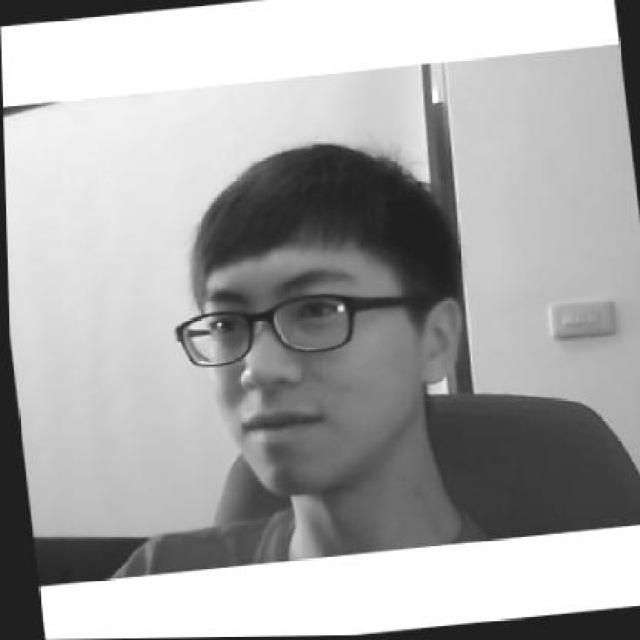attentif: (153, 130, 481, 504)
